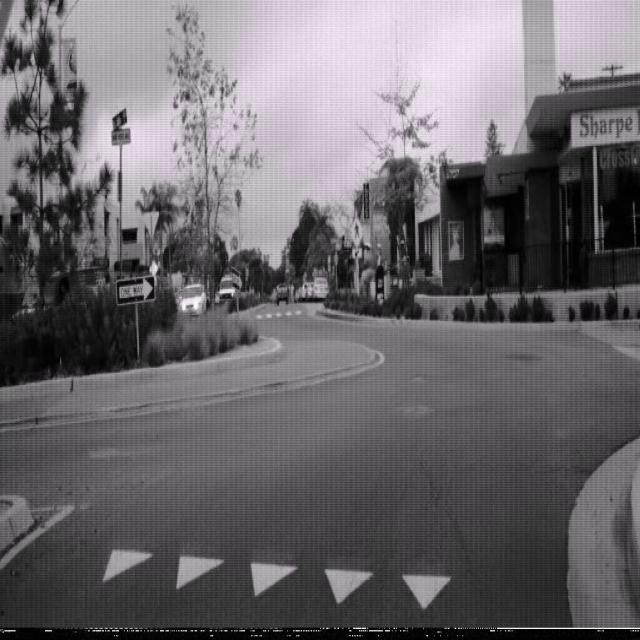pedestrianCrossing: (348, 214, 364, 246)
